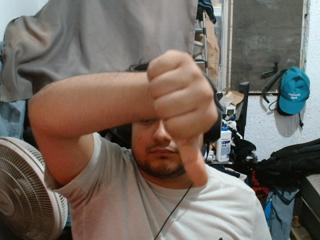Atras: (148, 48, 220, 190)
